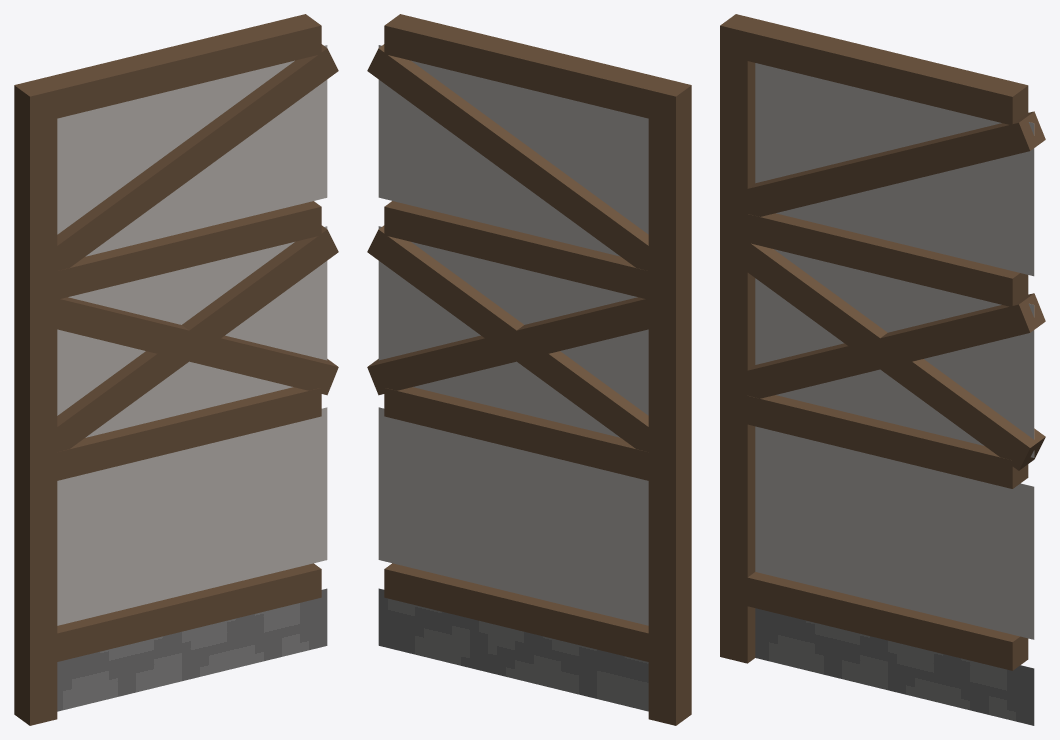
File: wall_3_1.gltf
3 views of the same model, side by side, from view 1: azimuth 30°, elevation 25°; view 2: azimuth 150°, elevation 25°; view 3: azimuth 330°, elevation 25° (orthographic).
Visible parts, largest first — view 1: cube (×22); view 2: cube (×22); view 3: cube (×22).
Part boxes in pixels (left/top/right/bottom): cube (×22): left=14, top=14, right=338, bottom=725; cube (×22): left=367, top=14, right=691, bottom=725; cube (×22): left=720, top=14, right=1045, bottom=725.
Bounding box in the file's own units: 2.12 × 4.12 × 0.1875.
Materials: 1 (1 with a texture image).
